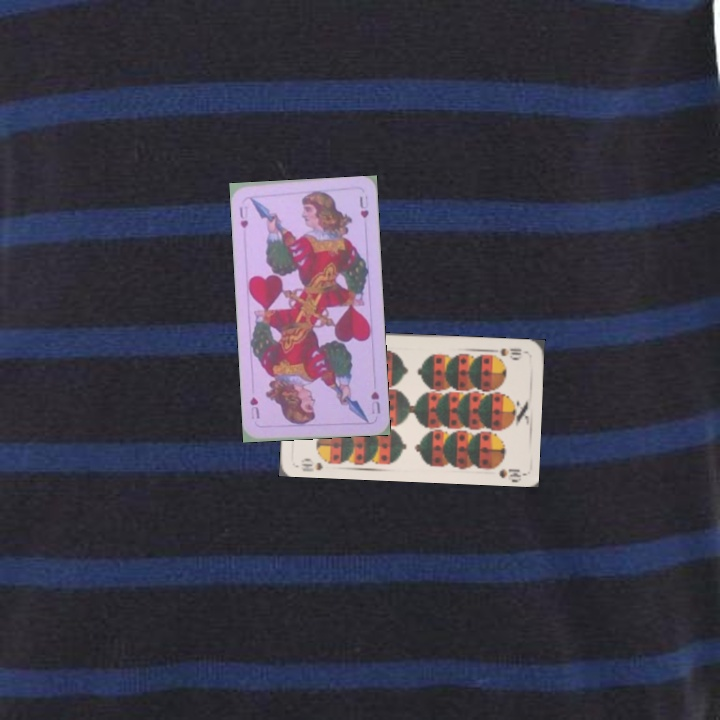HU: (367, 388, 383, 416), (235, 203, 251, 230)
S10: (297, 454, 335, 473), (497, 344, 524, 361)
